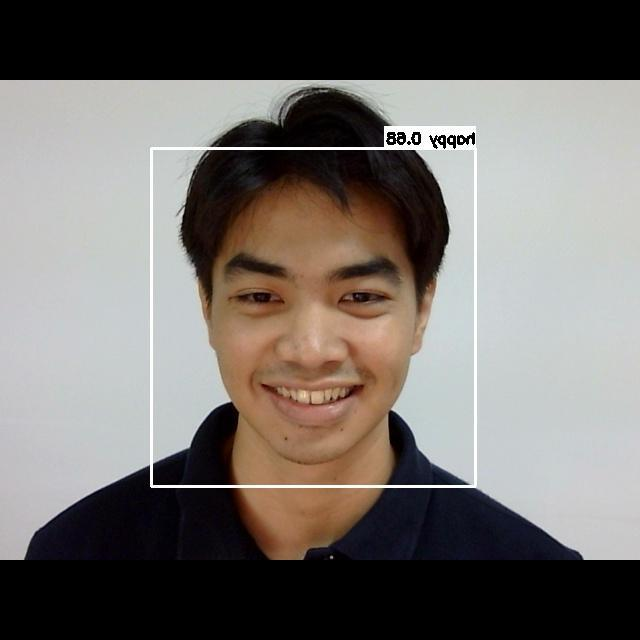Happy: (216, 237, 415, 441)
